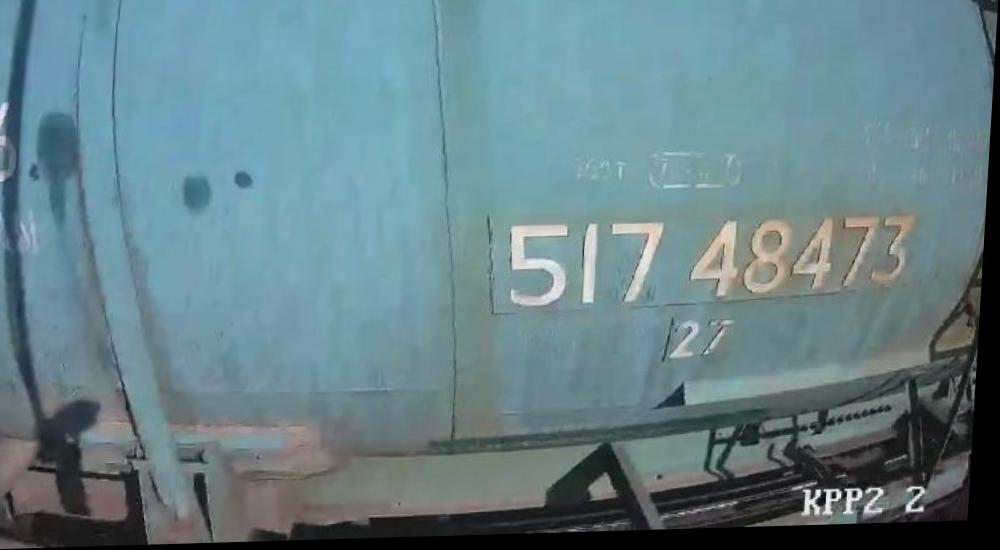Wagon-number: (506, 209, 924, 312)
